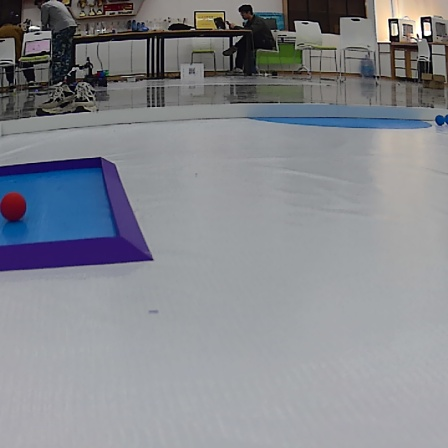blue: (434, 113, 448, 127)
blue_aim: (0, 157, 150, 266)
blue_base: (250, 111, 437, 132)
red: (1, 189, 25, 221)
